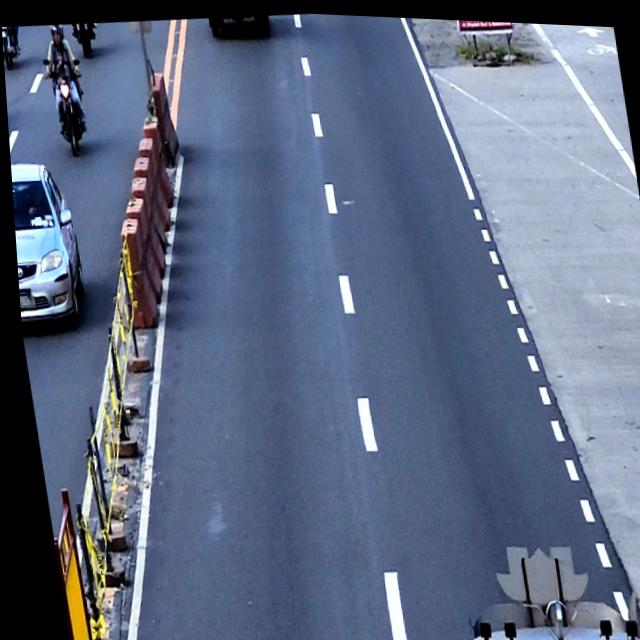Car: (8, 157, 86, 327)
Jeep: (439, 526, 640, 640)
License-Plate: (15, 292, 32, 310)
Motorcycle: (40, 54, 91, 158), (70, 21, 101, 59), (1, 25, 22, 71)
